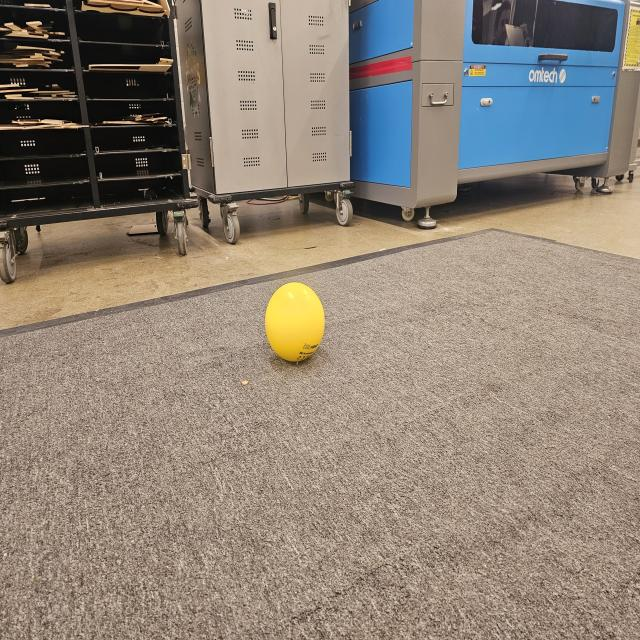Fuel: (266, 283, 326, 363)
